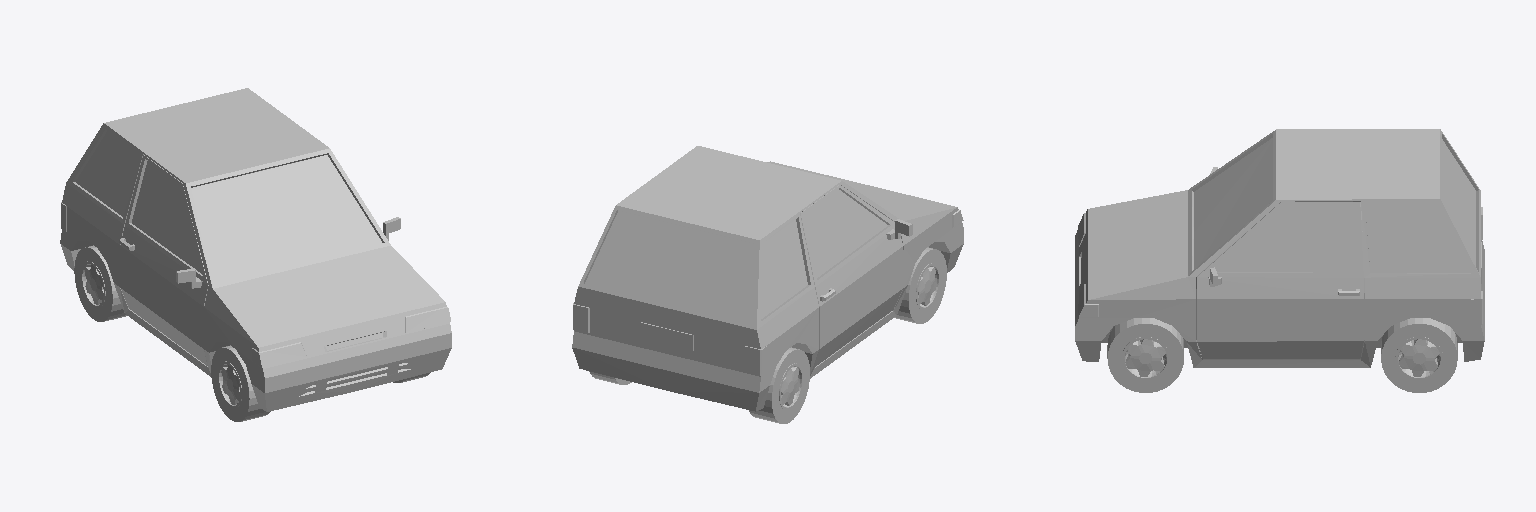
The model's file is free_car_001.obj.
3 views of the same model, side by side, from view 1: azimuth 30°, elevation 25°; view 2: azimuth 150°, elevation 25°; view 3: azimuth 270°, elevation 25° (orthographic).
Parts seen in each view (by area): view 1: car_body_Circle.073, windows_Circle.074, door_r_Circle.071, win_door_r.001_Circle.075, wheel_fr_Circle.050, wheel_br_Circle.068; view 2: car_body_Circle.073, windows_Circle.074, door_r_Circle.071, win_door_r.001_Circle.075, wheel_br_Circle.068, wheel_fr_Circle.050, free_number_Circle.001; view 3: car_body_Circle.073, door_l_Circle.072, windows_Circle.074, win_door_l.001_Circle.076, wheel_bl_Circle.069, wheel_fl_Circle.067.
Boxes of the visible parts, x1=… form: car_body_Circle.073: x1=60, y1=88, x2=451, y2=411; windows_Circle.074: x1=76, y1=131, x2=381, y2=283; door_r_Circle.071: x1=119, y1=155, x2=208, y2=365; win_door_r.001_Circle.075: x1=132, y1=161, x2=201, y2=273; wheel_fr_Circle.050: x1=211, y1=345, x2=270, y2=421; wheel_br_Circle.068: x1=74, y1=245, x2=126, y2=321; car_body_Circle.073: x1=572, y1=146, x2=963, y2=411; windows_Circle.074: x1=585, y1=211, x2=807, y2=324; door_r_Circle.071: x1=800, y1=185, x2=912, y2=366; win_door_r.001_Circle.075: x1=804, y1=189, x2=887, y2=277; wheel_br_Circle.068: x1=749, y1=347, x2=809, y2=423; wheel_fr_Circle.050: x1=894, y1=247, x2=946, y2=323; free_number_Circle.001: x1=641, y1=322, x2=693, y2=350; car_body_Circle.073: x1=1075, y1=129, x2=1484, y2=367; door_l_Circle.072: x1=1196, y1=202, x2=1364, y2=359; windows_Circle.074: x1=1194, y1=138, x2=1475, y2=272; win_door_l.001_Circle.076: x1=1215, y1=204, x2=1358, y2=272; wheel_bl_Circle.069: x1=1381, y1=318, x2=1457, y2=392; wheel_fl_Circle.067: x1=1107, y1=318, x2=1183, y2=392.
Bounding box in the file's own units: 2.18 × 1.71 × 3.46.